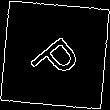P_NE: (24, 25, 86, 85)
